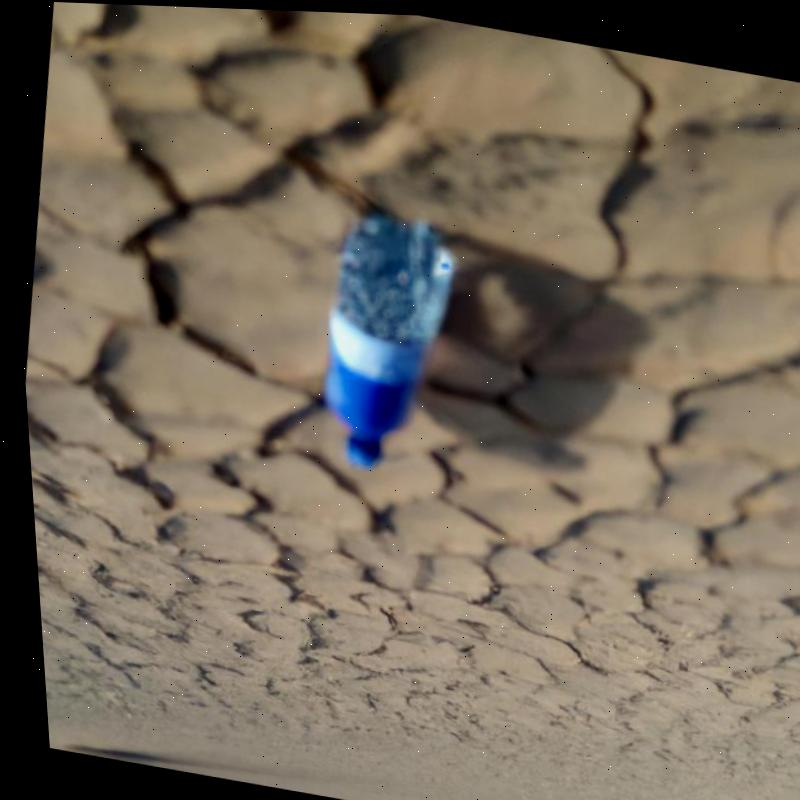botella: (295, 205, 468, 475)
